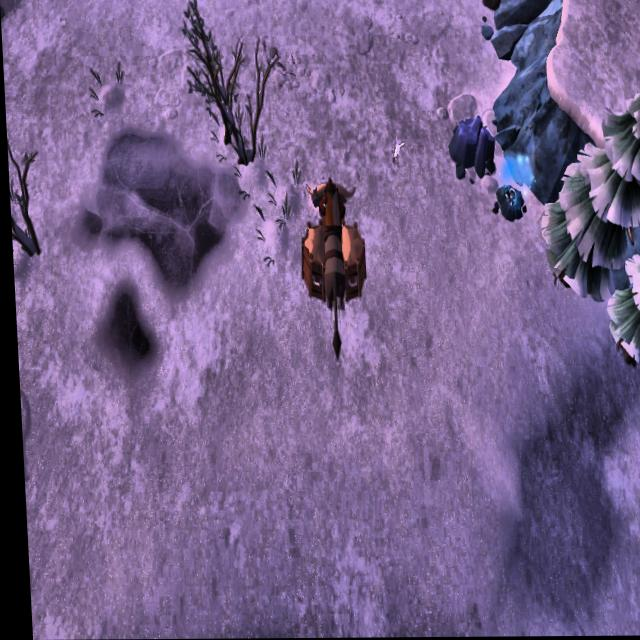rock_t4: (445, 105, 498, 182)
